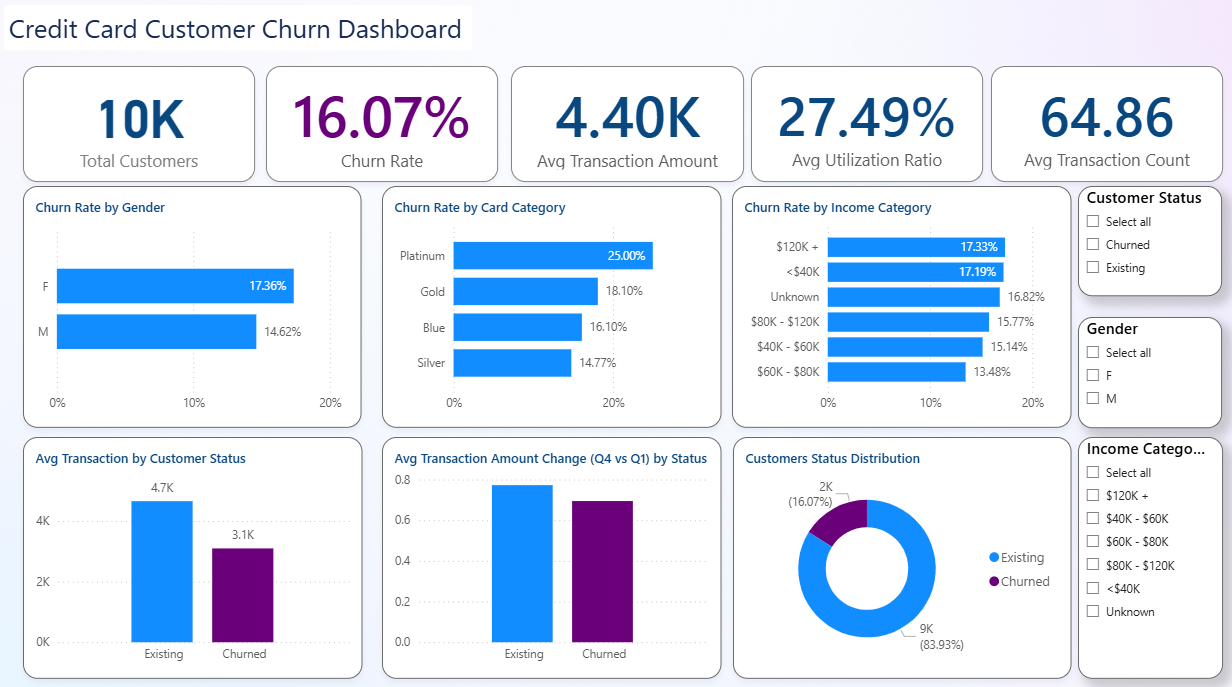

Layout of this report page (visuals, bound fields, positions):
{"tool":"powerbi","page":{"name":"Executive Summary","canvas":[1280,720],"ordinal":0},"visuals":[{"type":"card","title":"Total Customers","fields":{"Values":["credit_card_churn.Total Customers"]},"box":[26.9,75.5,239.9,119.9],"z":0},{"type":"card","fields":{"Values":["credit_card_churn.Churn Rate"]},"box":[278.1,75.5,239.9,119.9],"z":1000},{"type":"clusteredBarChart","fields":{"Category":["credit_card_churn.Income_Category"],"Y":["credit_card_churn.Churn Rate"]},"box":[759.9,199.5,350.5,250.2],"z":2000},{"type":"clusteredBarChart","fields":{"Category":["credit_card_churn.Card Category"],"Y":["credit_card_churn.Churn Rate"]},"box":[398.1,199.5,350.5,250.2],"z":3000},{"type":"clusteredBarChart","fields":{"Category":["credit_card_churn.Gender"],"Y":["credit_card_churn.Churn Rate"]},"box":[26.9,199.5,350,250],"z":4000},{"type":"card","fields":{"Values":["Avg(credit_card_churn.Total Transaction Amount)"]},"box":[531.4,75.5,240.9,119.9],"z":5000},{"type":"card","fields":{"Values":["Avg(credit_card_churn.Utilization Ratio)"]},"box":[779.6,75.5,239.9,119.9],"z":6000},{"type":"card","fields":{"Values":["Avg(credit_card_churn.Total Transaction Count)"]},"box":[1027.7,75.5,239.9,119.9],"z":7000},{"type":"clusteredColumnChart","title":"Avg Transaction by Customer Status","fields":{"Y":["Avg(credit_card_churn.Transaction Amount)"],"Category":["credit_card_churn.Customer Status Short"]},"box":[26.9,459.1,350.5,250.2],"z":8000},{"type":"clusteredColumnChart","title":"Avg Transaction Amount Change (Q4 vs Q1) by Status","fields":{"Y":["Avg(credit_card_churn.Total Amount Change (Q4 vs Q1))"],"Category":["credit_card_churn.Customer Status Short"]},"box":[398.1,459.1,350.5,250.2],"z":9000},{"type":"textbox","box":[7.2,12.4,483.9,46.5],"z":10000},{"type":"donutChart","title":"Customers Status Distribution","fields":{"Y":["credit_card_churn.Total Customers"],"Category":["credit_card_churn.Customer Status Short"]},"box":[761,459.1,350,250.2],"z":11000},{"type":"slicer","fields":{"Values":["credit_card_churn.Gender"]},"box":[1117.7,335,149,114.8],"z":12000},{"type":"slicer","fields":{"Values":["credit_card_churn.Income Category"]},"box":[1117.7,459.1,149.9,250.2],"z":13000},{"type":"slicer","fields":{"Values":["credit_card_churn.Customer Status Short"]},"box":[1117.7,199.5,149,114],"z":14000}]}

Visuals, with their boxes in screenshot pixels (x1, y1, x2, y2), scaled from the page's 1280x720 canvas onto the 1232x687 screenshot:
"Total Customers" card: region(26, 72, 257, 186)
card - credit_card_churn.Churn Rate: region(268, 72, 499, 186)
clusteredBarChart - credit_card_churn.Income_Category x credit_card_churn.Churn Rate: region(731, 190, 1069, 429)
clusteredBarChart - credit_card_churn.Card Category x credit_card_churn.Churn Rate: region(383, 190, 721, 429)
clusteredBarChart - credit_card_churn.Gender x credit_card_churn.Churn Rate: region(26, 190, 363, 429)
card - Avg(credit_card_churn.Total Transaction Amount): region(511, 72, 743, 186)
card - Avg(credit_card_churn.Utilization Ratio): region(750, 72, 981, 186)
card - Avg(credit_card_churn.Total Transaction Count): region(989, 72, 1220, 186)
"Avg Transaction by Customer Status" clusteredColumnChart: region(26, 438, 363, 677)
"Avg Transaction Amount Change (Q4 vs Q1) by Status" clusteredColumnChart: region(383, 438, 721, 677)
textbox: region(7, 12, 473, 56)
"Customers Status Distribution" donutChart: region(732, 438, 1069, 677)
slicer - credit_card_churn.Gender: region(1076, 320, 1219, 429)
slicer - credit_card_churn.Income Category: region(1076, 438, 1220, 677)
slicer - credit_card_churn.Customer Status Short: region(1076, 190, 1219, 299)
